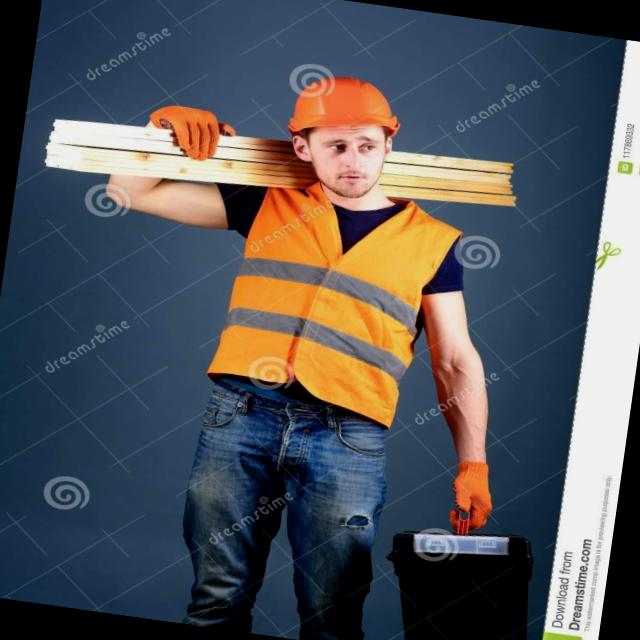helmet: (275, 73, 415, 148)
vest: (198, 167, 448, 436)
